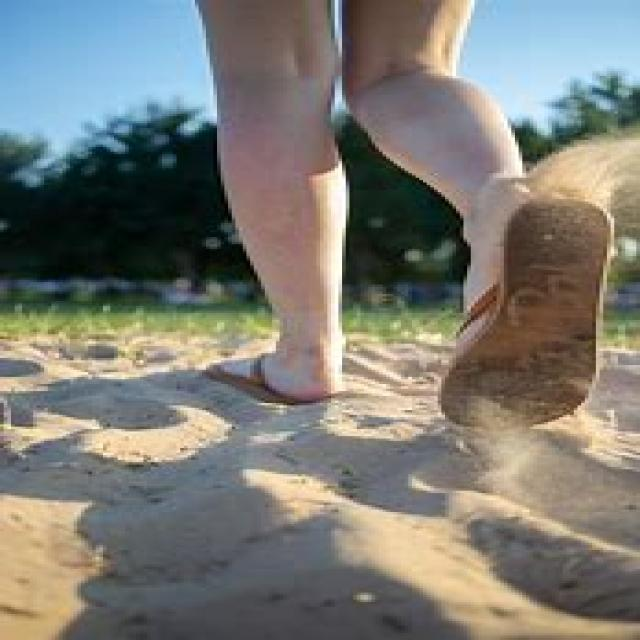No_Shoe: (202, 339, 363, 399)
